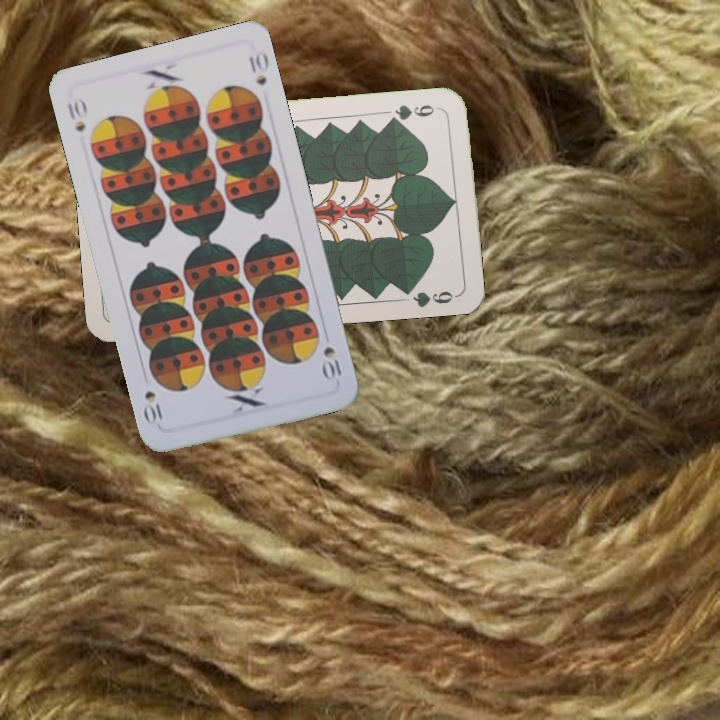G9: (385, 101, 444, 125)
S10: (63, 94, 90, 135), (318, 342, 344, 384)
